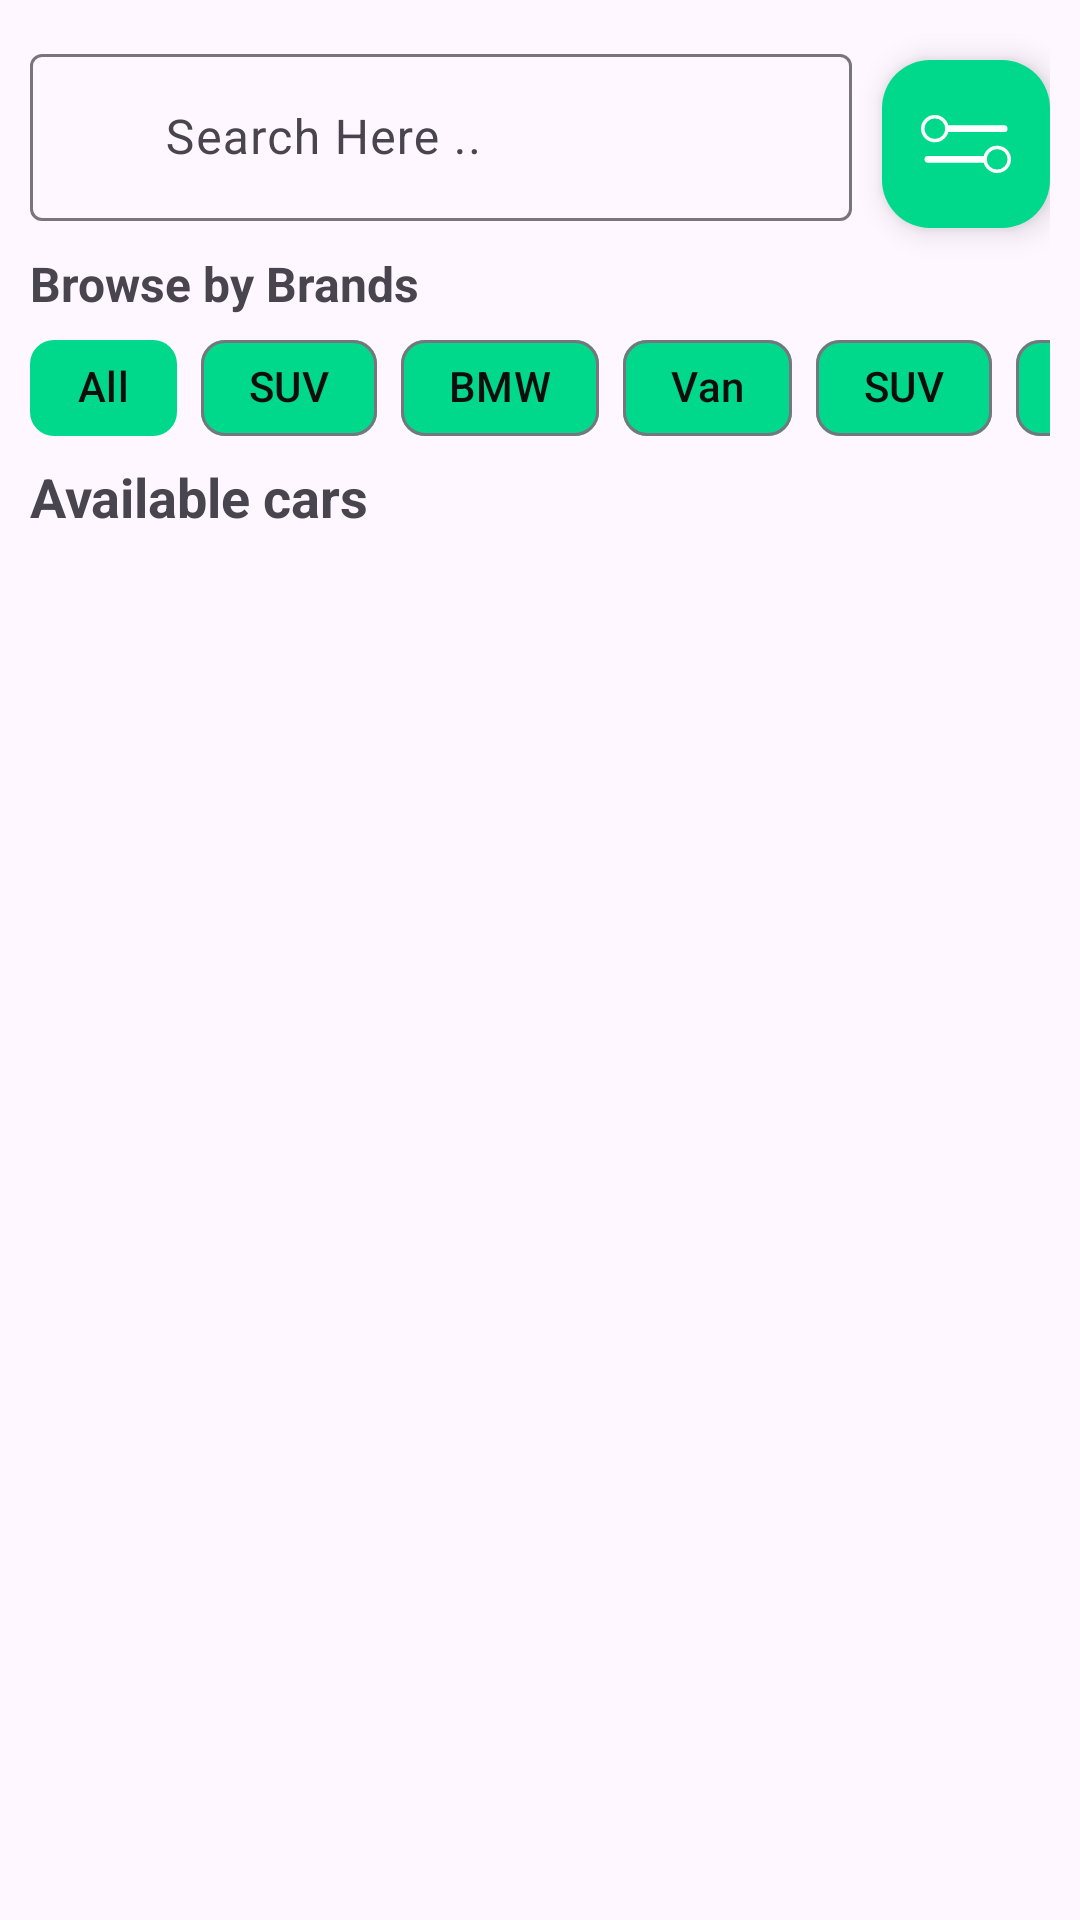

Locate icon controls on the screen. Image size 1080px x 1920px, boxes as (x1, y1, x2, y2).
Filter: (882, 60, 1050, 228)
